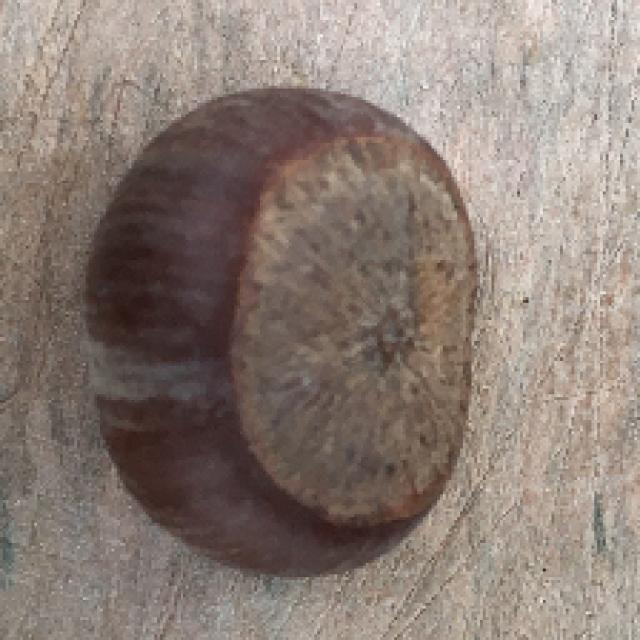damagedHazelnut: (64, 78, 495, 586)
